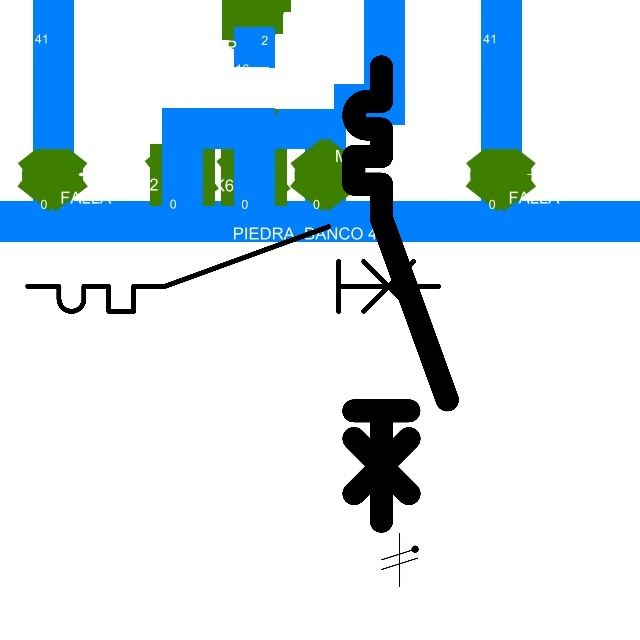interruptor_termomagnetico: (342, 55, 459, 533), (17, 216, 449, 322)
